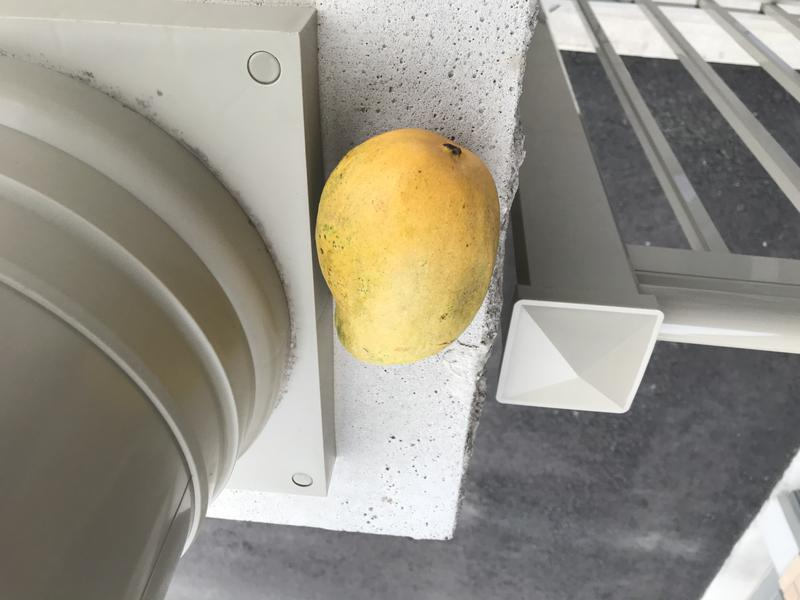w: (304, 113, 504, 382)
